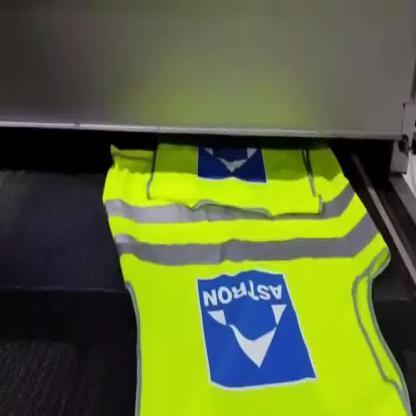vest: (101, 141, 413, 415)
